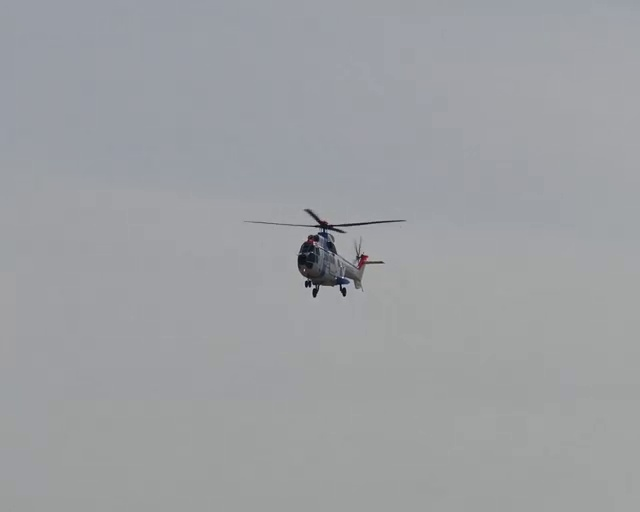HELICOPTER: (239, 208, 407, 298)
